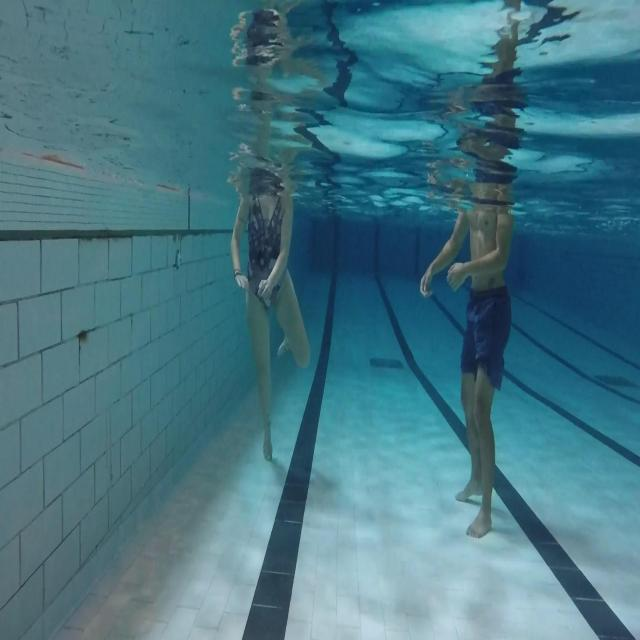human: (419, 161, 516, 538), (230, 164, 311, 462)
